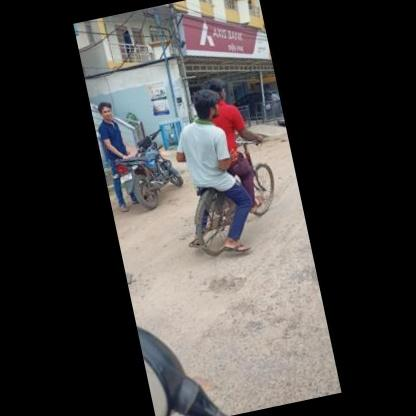Bicycle: (168, 143, 284, 263)
